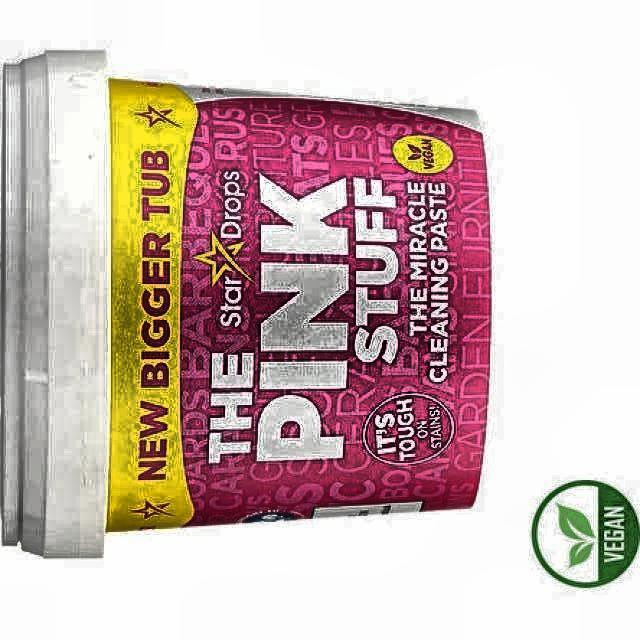plastic: (0, 51, 490, 556)
